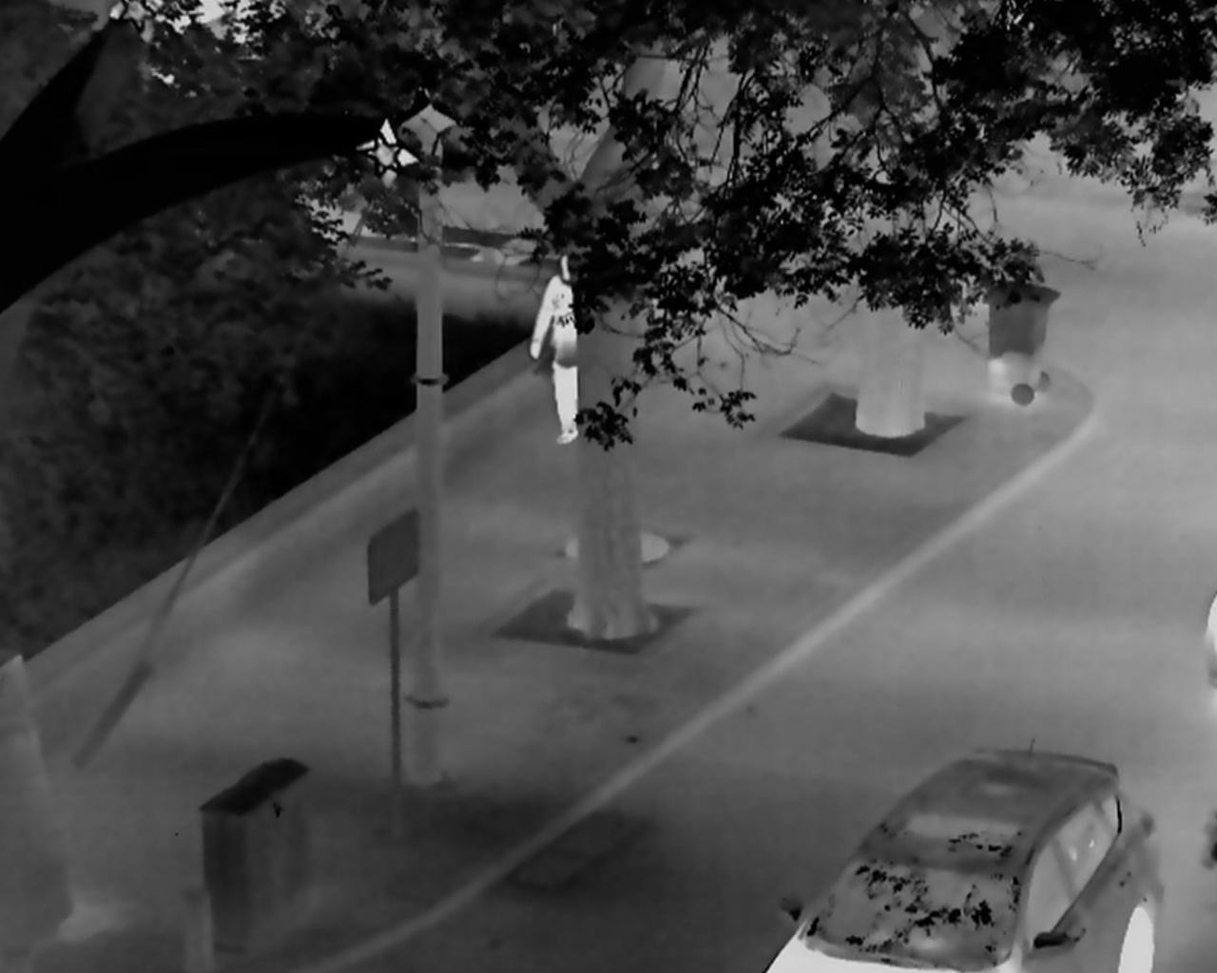person: (530, 252, 579, 447)
